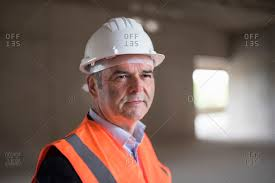Person_wearing_helmet: (76, 11, 168, 86)
